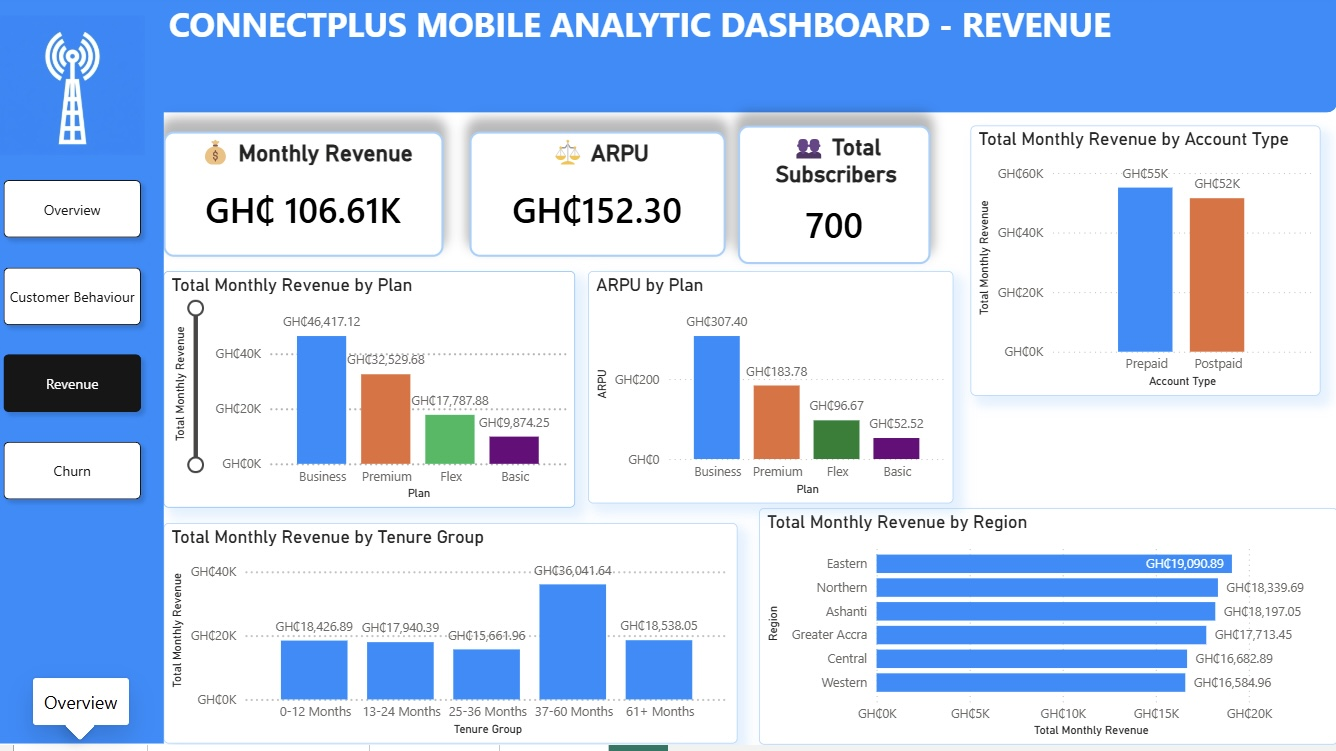

Layout of this report page (visuals, bound fields, positions):
{"tool":"powerbi","page":{"name":"Revenue","canvas":[1280,720],"ordinal":2},"visuals":[{"type":"clusteredColumnChart","fields":{"Category":["Plans.Plan"],"Y":["Regions.Total Monthly Revenue"]},"box":[162,268,392.2,225.6],"z":0},{"type":"shape","box":[0,6.1,1279.5,112.1],"z":1000},{"type":"textbox","box":[162,6.1,940.3,56],"z":2000},{"type":"cardVisual","title":"💰 Monthly Revenue","fields":{"Data":["Regions.Total Monthly Revenue"]},"box":[162,136.3,266.5,119.6],"z":3000},{"type":"cardVisual","title":"⚖️ ARPU","fields":{"Data":["Regions.ARPU"]},"box":[452.7,136.3,243.8,119.6],"z":4000},{"type":"cardVisual","title":"👥 Total Subscribers","fields":{"Data":["Regions.Total Subscribers"]},"box":[708.6,130.2,183.2,131.7],"z":5000},{"type":"barChart","fields":{"Category":["Regions.Region"],"Y":["Regions.Total Monthly Revenue"]},"box":[728.3,493.6,551.2,225.6],"z":6000},{"type":"columnChart","fields":{"Category":["Subscribers_RAW.Account Type"],"Y":["Regions.Total Monthly Revenue"]},"box":[929.7,130.2,333.1,257.4],"z":7000},{"type":"clusteredColumnChart","fields":{"Category":["Plans.Plan"],"Y":["Regions.ARPU"]},"box":[566.3,268,348.3,221.1],"z":8000},{"type":"clusteredColumnChart","fields":{"Category":["Subscribers_RAW.Tenure Group"],"Y":["Regions.Total Monthly Revenue"]},"box":[161.7,508.3,546.7,210],"z":9000},{"type":"shape","box":[0,98.3,161.7,620],"z":10000},{"type":"pageNavigator","box":[0,172.6,149.9,324],"z":11000},{"type":"image","box":[6.1,12.1,137.8,160.5],"z":12000}]}

Visuals, with their boxes on the page's 1280x720 design canvas (x1, y1, x2, y2). These are canvas units, not pixel positions in the 1336x751 screenshot, which may show the page scaled, cropped or inside an application window:
clusteredColumnChart - Plans.Plan x Regions.Total Monthly Revenue: 162,268,554,494
shape: 0,6,1280,118
textbox: 162,6,1102,62
"💰 Monthly Revenue" cardVisual: 162,136,428,256
"⚖️ ARPU" cardVisual: 453,136,696,256
"👥 Total Subscribers" cardVisual: 709,130,892,262
barChart - Regions.Region x Regions.Total Monthly Revenue: 728,494,1280,719
columnChart - Subscribers_RAW.Account Type x Regions.Total Monthly Revenue: 930,130,1263,388
clusteredColumnChart - Plans.Plan x Regions.ARPU: 566,268,915,489
clusteredColumnChart - Subscribers_RAW.Tenure Group x Regions.Total Monthly Revenue: 162,508,708,718
shape: 0,98,162,718
pageNavigator: 0,173,150,497
image: 6,12,144,173
